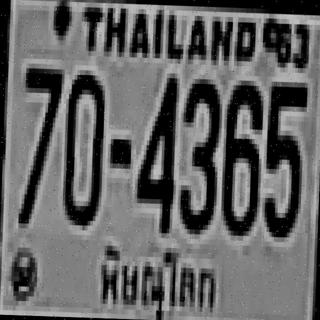N00: (61, 70, 104, 221)
N03: (177, 73, 221, 230)
N04: (133, 72, 177, 228)
N05: (261, 76, 305, 233)
N06: (220, 75, 262, 231)
N07: (17, 63, 61, 224)
